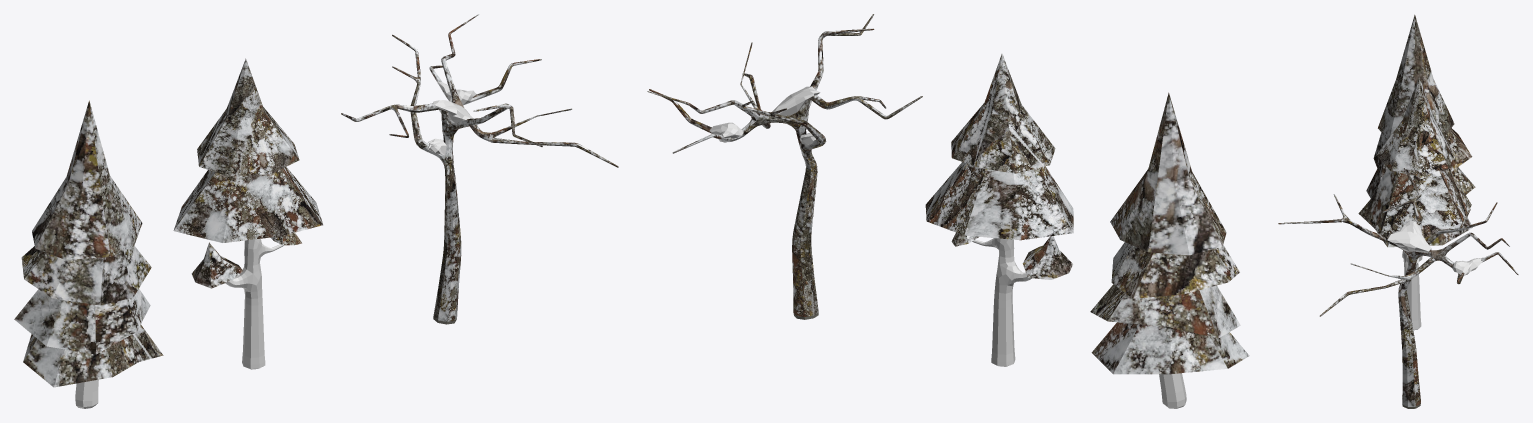
File: Trees.fbx
The picture shows the model from 3 angles, left to right: view 1: azimuth 30°, elevation 25°; view 2: azimuth 150°, elevation 25°; view 3: azimuth 270°, elevation 25°; orthographic projection. The views are drawn at different scales.
Parts seen in each view (by area): view 1: Pine_Leaf, Pine_Leafs, Tree, Tree.002, Tree.001; view 2: Pine_Leaf, Pine_Leafs, Tree, Tree.002, Tree.001, Snow.001; view 3: Pine_Leafs, Pine_Leaf, Tree, Snow.001, Tree.002, Snow.002.
Boxes of the visible parts, left/top/right/bottom form: Pine_Leaf: left=14, top=100, right=163, bottom=387; Pine_Leafs: left=173, top=58, right=322, bottom=288; Tree: left=341, top=14, right=618, bottom=324; Tree.002: left=225, top=238, right=284, bottom=369; Tree.001: left=75, top=379, right=98, bottom=408; Pine_Leaf: left=1090, top=92, right=1249, bottom=374; Pine_Leafs: left=925, top=53, right=1073, bottom=279; Tree: left=647, top=14, right=922, bottom=319; Tree.002: left=972, top=238, right=1031, bottom=366; Tree.001: left=1159, top=373, right=1186, bottom=408; Snow.001: left=772, top=86, right=820, bottom=115; Pine_Leafs: left=1367, top=77, right=1471, bottom=237; Pine_Leaf: left=1358, top=14, right=1475, bottom=247; Tree: left=1278, top=168, right=1518, bottom=408; Snow.001: left=1387, top=220, right=1431, bottom=253; Tree.002: left=1403, top=251, right=1421, bottom=330; Snow.002: left=1452, top=257, right=1483, bottom=275.
Size of the model in its own units: 3179 by 1724 by 1497.
